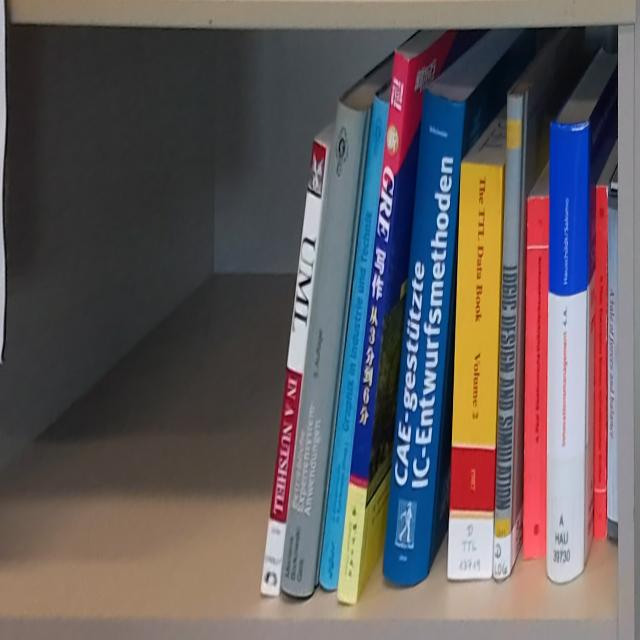Book Spine: (279, 98, 368, 600), (382, 87, 467, 589), (336, 52, 410, 602), (317, 94, 391, 592), (259, 139, 328, 598), (446, 162, 503, 581), (547, 120, 590, 583), (492, 92, 524, 584), (523, 196, 550, 560), (593, 185, 609, 538), (605, 199, 618, 544)
